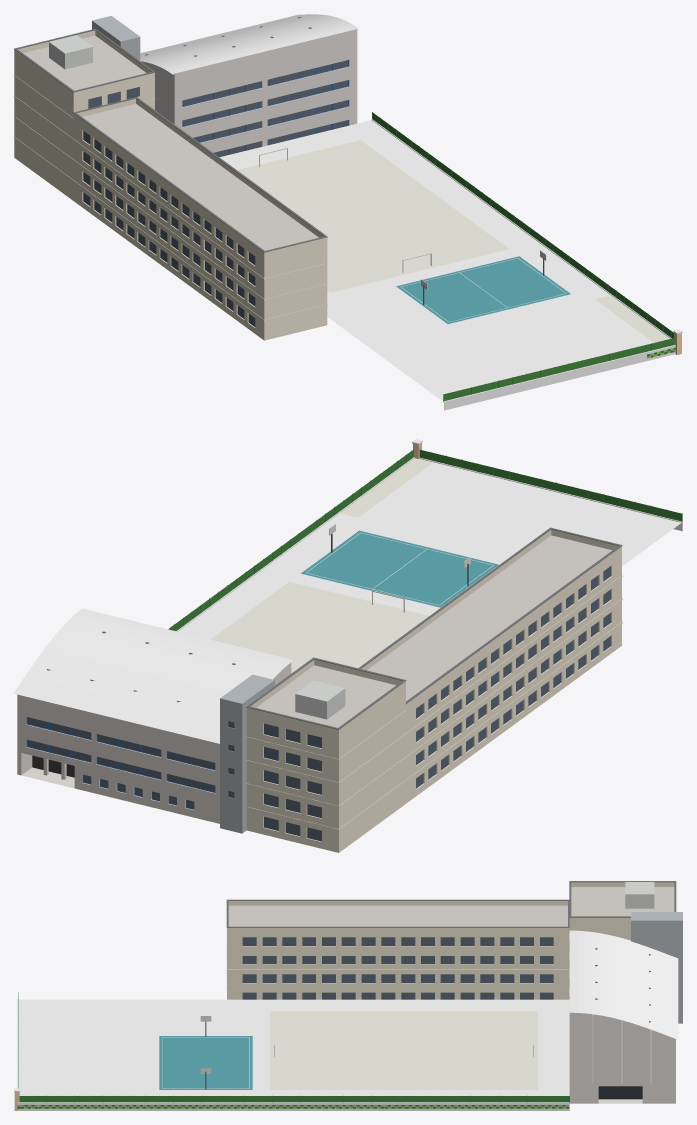
The model's file is school410.glb.
3 renders of one model, top to bottom at view 1: azimuth 30°, elevation 25°; view 2: azimuth 150°, elevation 25°; view 3: azimuth 270°, elevation 25°, orthographic. The views are drawn at different scales.
Parts seen in each view (by area): view 1: School410; view 2: School410; view 3: School410.
Part boxes in pixels (x1,y1,x2,y2): School410: (14,14,682,410); School410: (14,439,682,852); School410: (14,881,682,1110).
Size of the model in its own units: 53.56 by 20.3 by 115.
